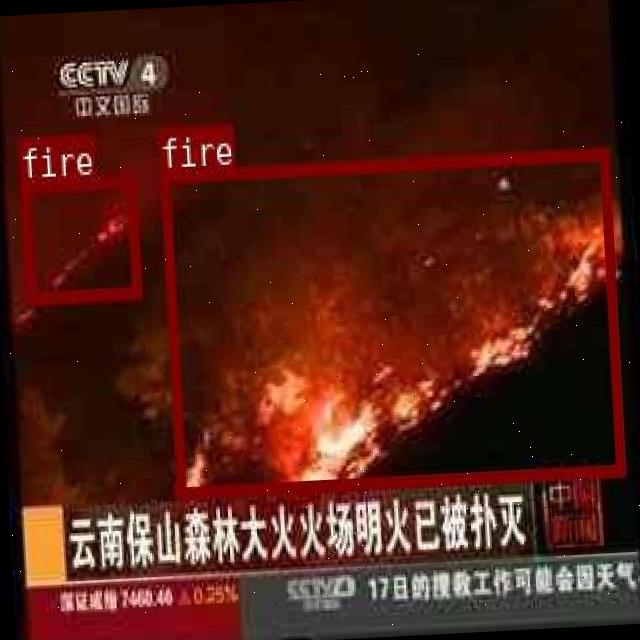fire: (158, 146, 624, 497), (20, 174, 140, 302)
